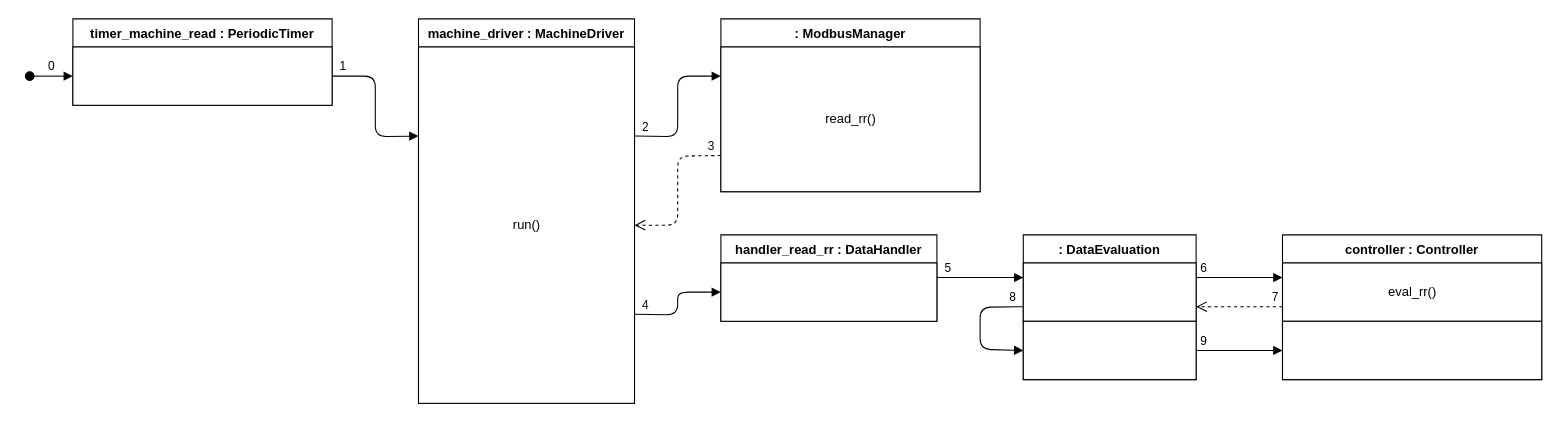
The diagram is 1561 pixels wide and 422 high, and some of its shapes have lost their labels. Each missing label, with the centre of its shape:
"cb_on_read_rr_changed()" belongs at [1411,350].
"evaluate()" belongs at [1109,291].
"fire()" belongs at [1109,350].
"timeout()" belongs at [202,75].
"update()" belongs at [828,291].
